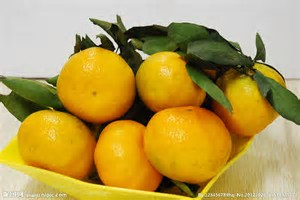orange: (140, 101, 232, 180), (215, 46, 288, 134), (56, 40, 133, 119), (19, 101, 95, 178), (90, 114, 163, 194), (134, 45, 209, 109)
